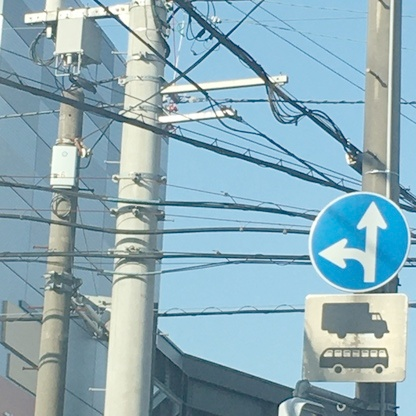Direction_sign: (299, 184, 416, 303)
